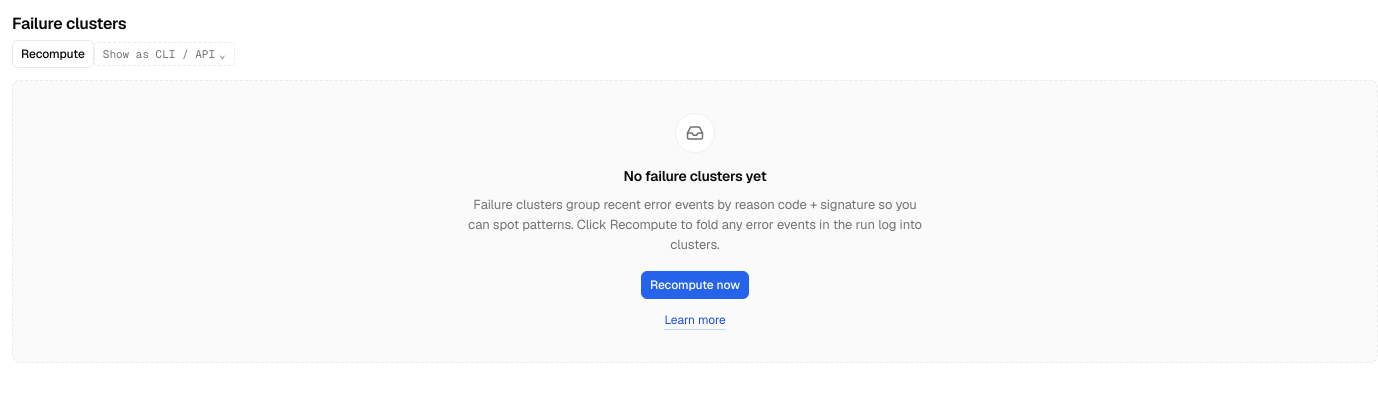
Scenario: FailureClusterList › Recompute POSTs and renders the summary line
Expected: the heading "No failure clusters yet" is shown, [624, 165, 766, 187]
What coordinates should you click on to do the following:
click the button "Recompute"
I would click on:
 (53, 54)
Its box is [12, 40, 94, 68].
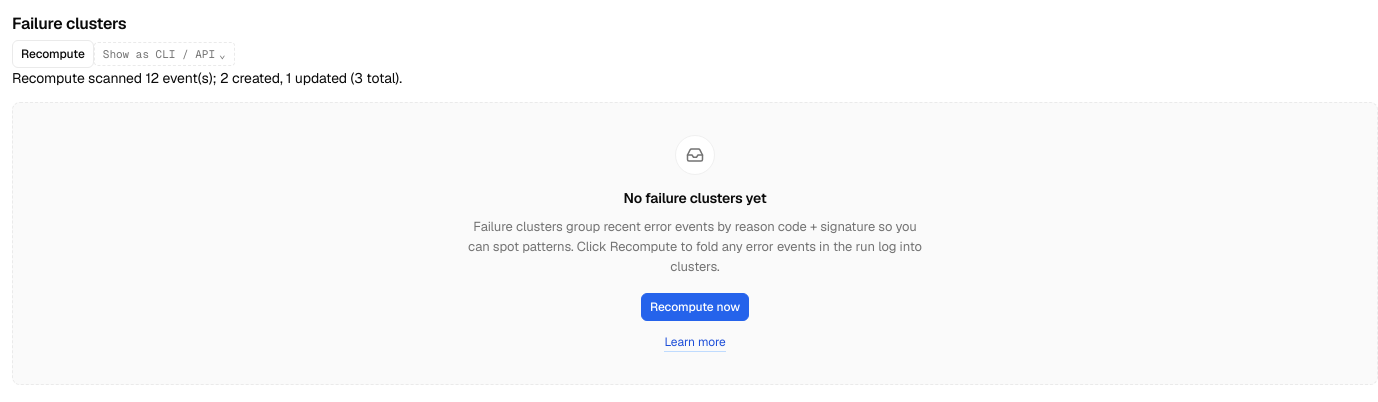
Expected: the text "Recompute scanned 12 event(s); 2 created, 1 updated (3 total)." is shown, [12, 69, 402, 87]
